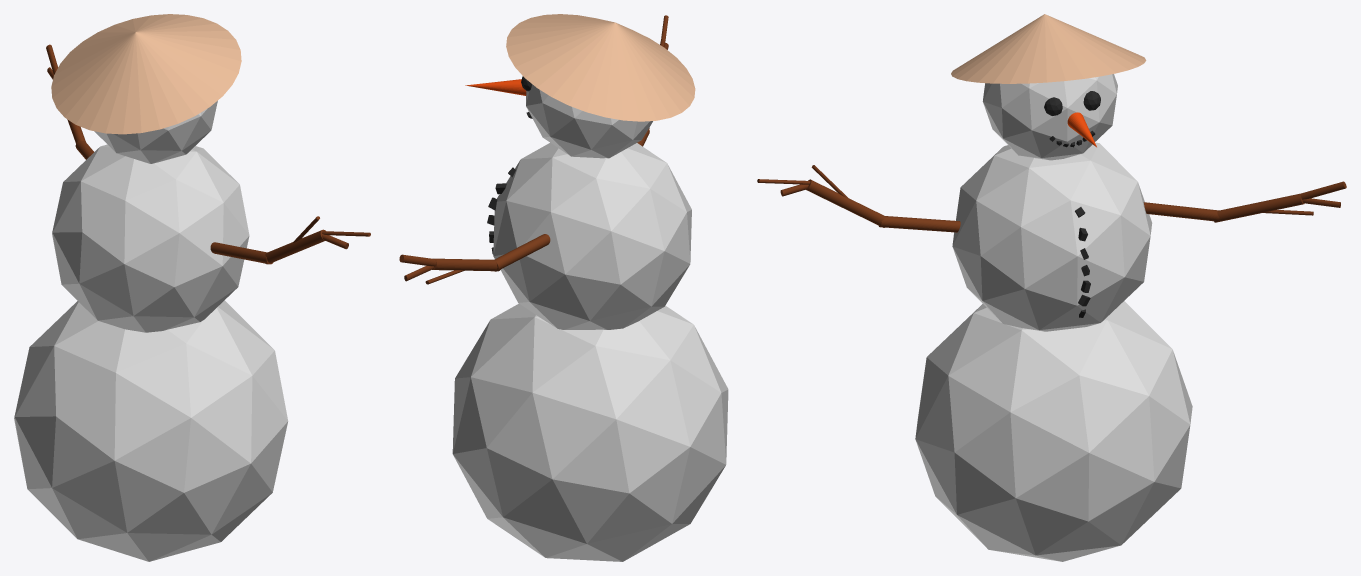
The model's file is VBUS101-Snowman.gltf.
3 views of the same model, side by side, from view 1: azimuth 30°, elevation 25°; view 2: azimuth 150°, elevation 25°; view 3: azimuth 270°, elevation 25° (orthographic).
Parts seen in each view (by area): view 1: Icosphere.001, Icosphere, Cone.001, Icosphere.002, Cylinder.002, Cylinder.001; view 2: Icosphere.001, Icosphere, Cone.001, Icosphere.002, Cylinder.007, Cylinder.006, Cone; view 3: Icosphere.001, Icosphere, Cone.001, Icosphere.002, Cylinder.007, Cylinder.002, Cylinder.001, Cylinder.006.
Boxes of the visible parts, x1,y1,x2,y2 form: Icosphere.001: (14,300,288,561); Icosphere: (52,144,249,332); Cone.001: (51,14,241,134); Icosphere.002: (94,100,217,163); Cylinder.002: (265,229,325,264); Cylinder.001: (210,242,273,264); Icosphere.001: (452,303,728,561); Icosphere: (493,142,691,329); Cone.001: (506,14,695,121); Icosphere.002: (526,84,652,158); Cylinder.007: (432,258,500,271); Cylinder.006: (495,234,550,271); Cone: (465,79,526,95); Icosphere.001: (915,301,1192,561); Icosphere: (952,142,1152,331); Cone.001: (951,14,1146,83); Icosphere.002: (982,74,1117,160); Cylinder.007: (1213,193,1304,222); Cylinder.002: (806,179,885,227); Cylinder.001: (879,216,960,232); Cylinder.006: (1143,202,1219,221).
Size of the model in its own units: 2.82 by 5.99 by 6.09.
